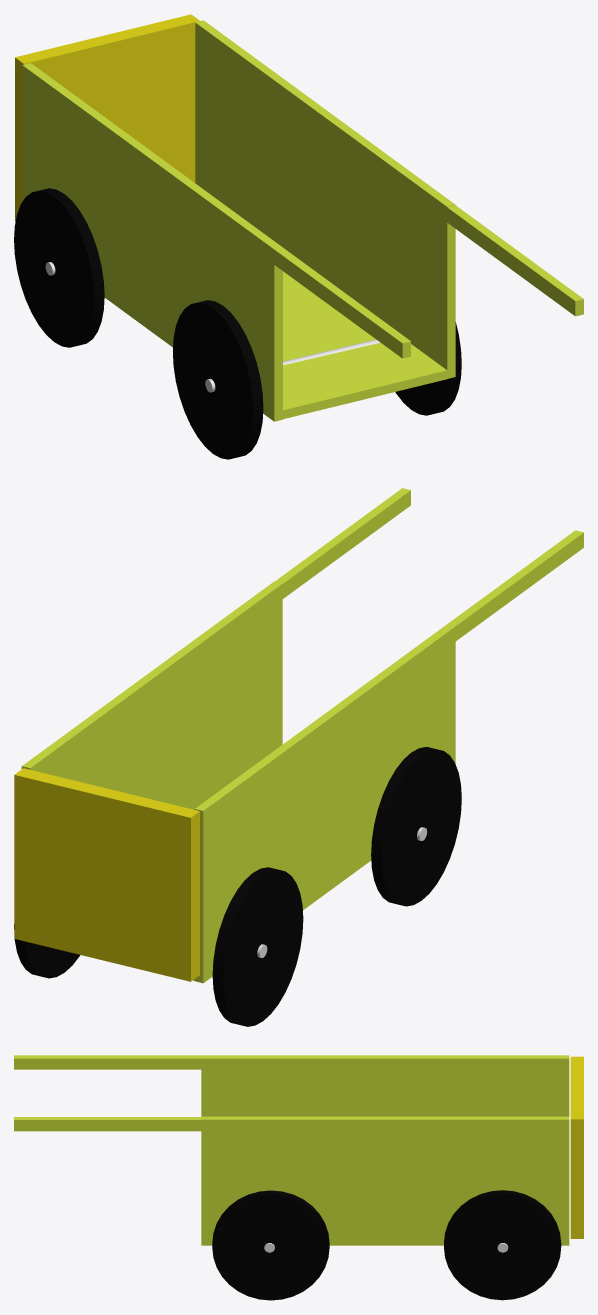
File: gerobak.fbx
The picture shows the model from 3 angles, top to bottom: view 1: azimuth 30°, elevation 25°; view 2: azimuth 150°, elevation 25°; view 3: azimuth 270°, elevation 25°; orthographic projection. The views are drawn at different scales.
Parts seen in each view (by area): view 1: Cube.002, Cube.001, Cube.005, Cube, Cylinder.004, Cylinder.001, Cube.004, Cube.003, Cylinder, Cylinder.002; view 2: Cube.001, Cube.005, Cube.002, Cylinder.004, Cylinder.001, Cube.003, Cube.004, Cylinder.003; view 3: Cube.002, Cube.001, Cylinder, Cylinder.003, Cube.003, Cube.004, Cube.005.
Boxes of the visible parts, <box> form: Cube.002: <box>195,20,455,378</box>; Cube.001: <box>22,63,282,421</box>; Cube.005: <box>15,14,199,221</box>; Cube: <box>282,271,447,419</box>; Cylinder.004: <box>14,188,104,347</box>; Cylinder.001: <box>173,300,263,459</box>; Cube.004: <box>447,205,583,316</box>; Cube.003: <box>274,247,410,358</box>; Cylinder: <box>395,322,461,415</box>; Cylinder.002: <box>205,339,379,392</box>; Cube.001: <box>194,624,455,983</box>; Cube.005: <box>14,768,199,981</box>; Cube.002: <box>21,581,282,809</box>; Cylinder.004: <box>212,867,303,1026</box>; Cylinder.001: <box>371,747,461,906</box>; Cube.003: <box>447,530,583,641</box>; Cube.004: <box>275,488,410,598</box>; Cylinder.003: <box>14,924,80,978</box>; Cube.002: <box>201,1116,569,1245</box>; Cube.001: <box>201,1055,569,1116</box>; Cylinder: <box>212,1190,329,1300</box>; Cylinder.003: <box>444,1190,561,1300</box>; Cube.003: <box>14,1055,381,1069</box>; Cube.004: <box>14,1117,381,1131</box>; Cube.005: <box>570,1056,583,1238</box>.
Bounding box in the file's own units: 397 × 426 × 1250.
